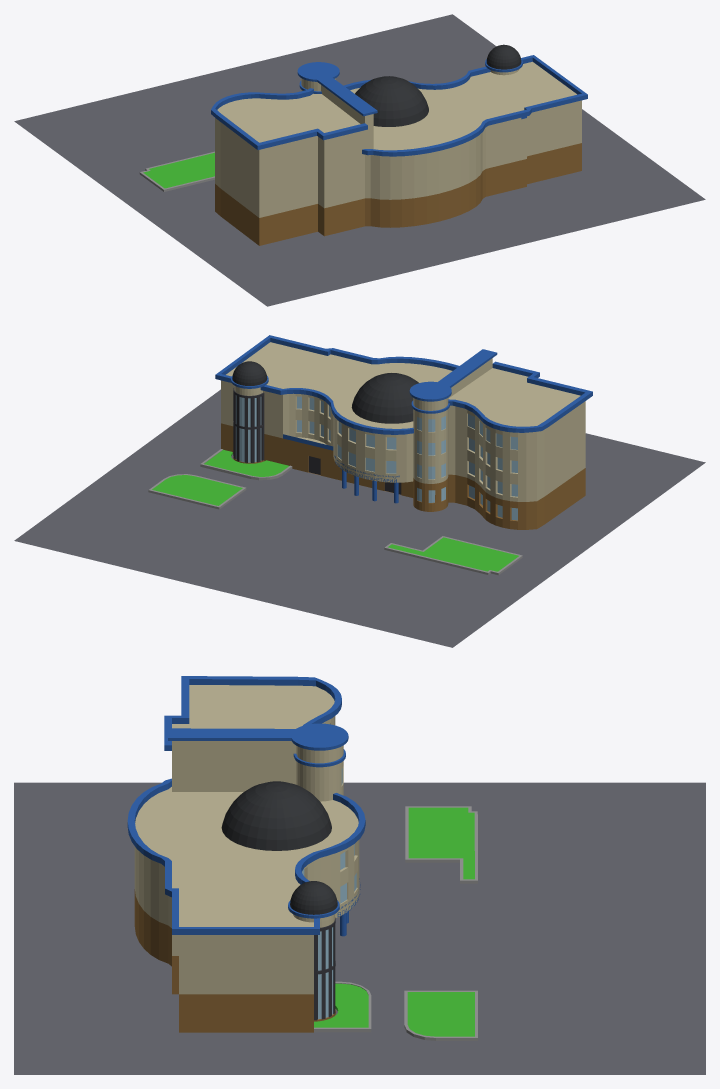
File: Planetarium_Vladimir2.glb
3 renders of one model, top to bottom at view 1: azimuth 30°, elevation 25°; view 2: azimuth 150°, elevation 25°; view 3: azimuth 270°, elevation 25°, orthographic. The views are drawn at different scales.
Visible parts, largest first — view 1: Плоскость, Building, grass; view 2: Плоскость, Building, grass, Куб, Куб.001; view 3: Плоскость, Building, grass, Куб, Куб.001.
Part boxes in pixels (x1,y1,x2,y2): Плоскость: (14,14,705,306); Building: (211,44,587,245); grass: (139,151,214,191); Плоскость: (14,389,705,647); Building: (215,335,592,529); grass: (384,536,522,575); Куб: (148,474,246,509); Куб.001: (200,449,292,480); Плоскость: (14,782,705,1074); Building: (127,676,365,1032); grass: (405,806,477,883); Куб: (404,990,477,1040); Куб.001: (314,981,371,1032).
Size of the model in its own units: 107 by 26.5 by 107.
